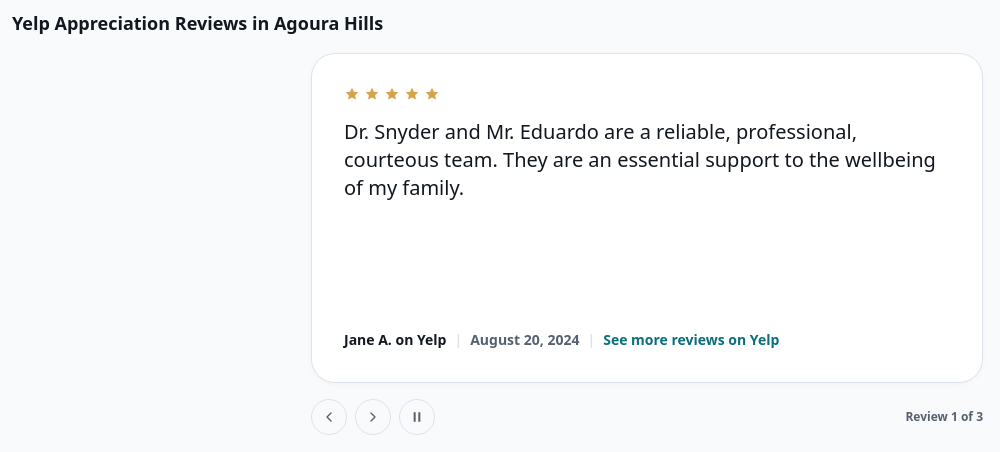
Test: LocationYelpReviews › only cycles through that clinic's own reviews, not other clinics'
Click the button named "Next review" at (373, 417), box [355,399,391,435]
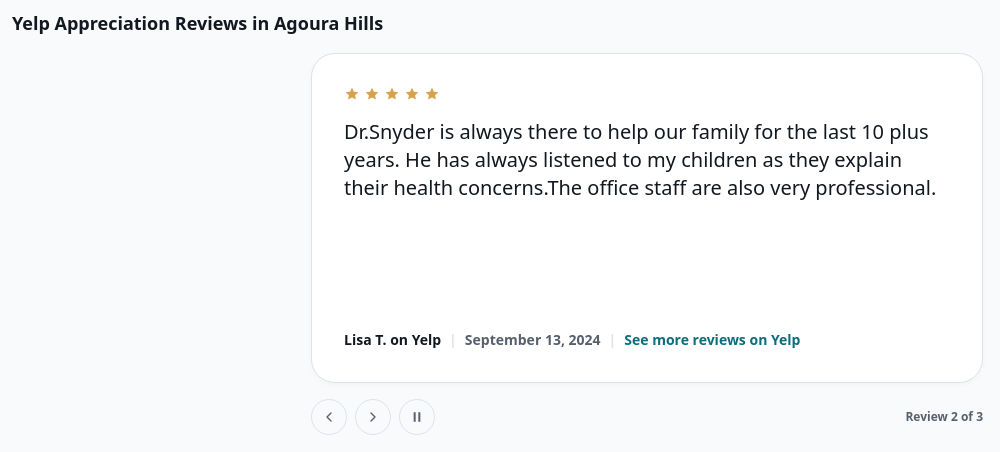
Result: the text "Dr.Snyder is always there to help our family for the last 10 plus years. He has always listened to my children as they e" is shown at [344,118,936,201]
Click the button named "Next review" at (373, 417), box [355,399,391,435]
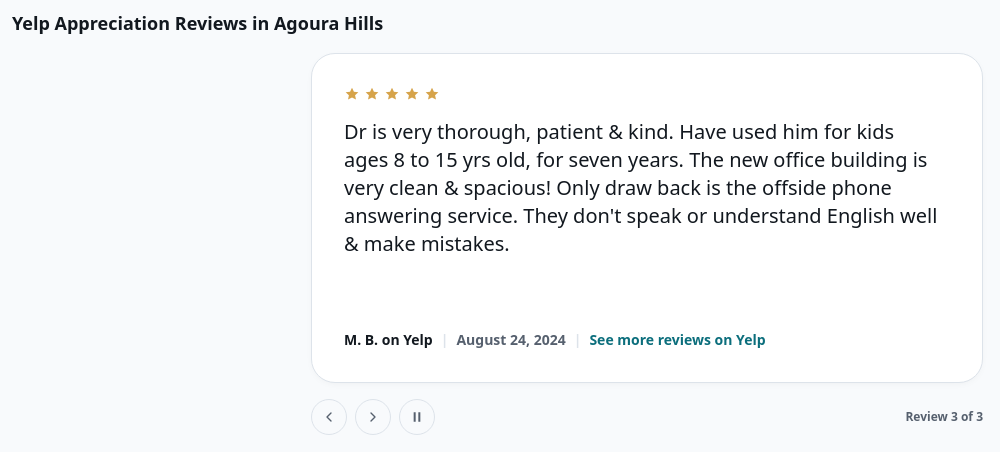
Result: the text "Dr is very thorough, patient & kind. Have used him for kids ages 8 to 15 yrs old, for seven years. The new office buildi" is shown at [344,118,937,257]
Click the button named "Next review" at (373, 417), box [355,399,391,435]
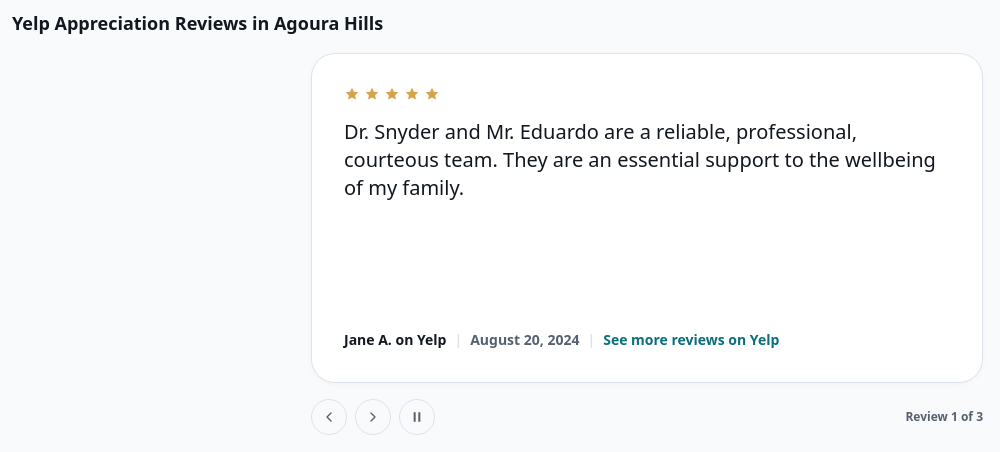
Result: the text "Dr. Snyder and Mr. Eduardo are a reliable, professional, courteous team. They are an essential support to the wellbeing " is shown at [344,118,936,201]
